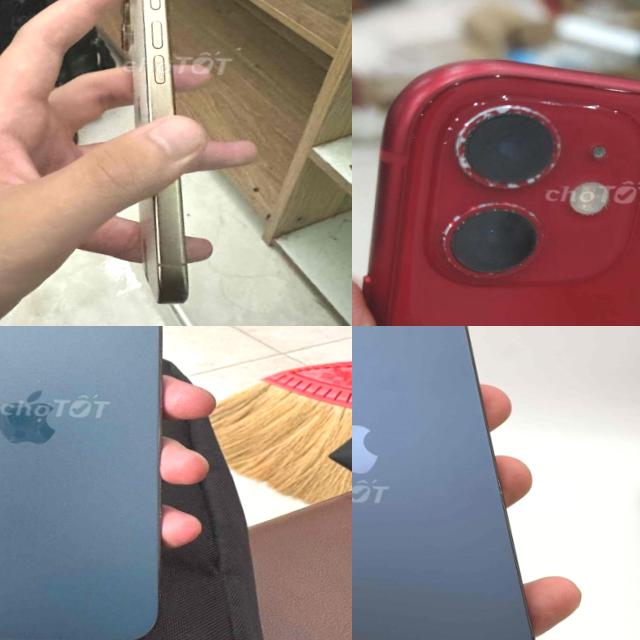gen_11: (352, 47, 640, 326)
gen_12_13: (0, 326, 200, 640)
gen_15: (352, 326, 567, 640)
gen_16: (96, 0, 230, 308)
